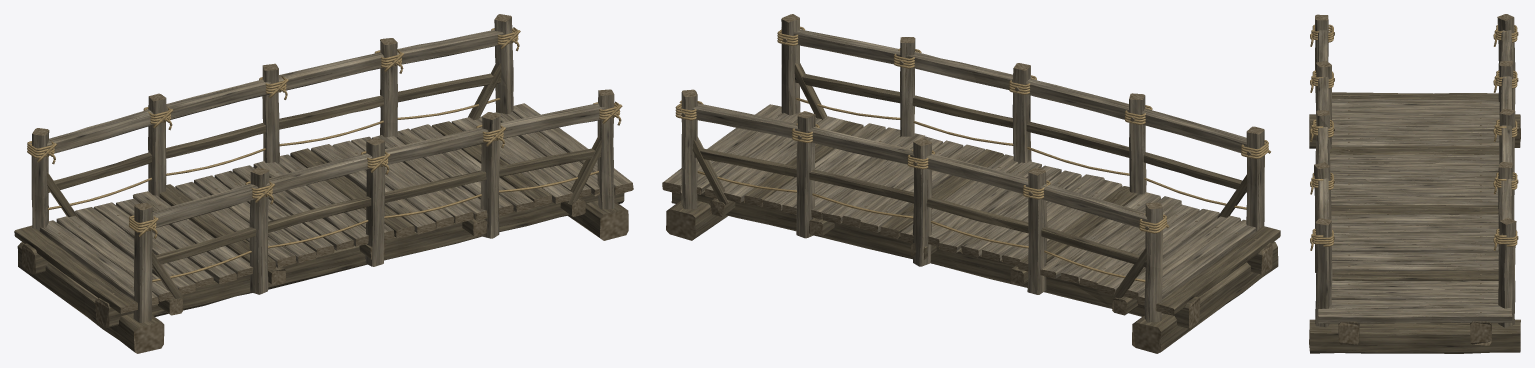
File: bridge.glb
3 views of the same model, side by side, from view 1: azimuth 30°, elevation 25°; view 2: azimuth 150°, elevation 25°; view 3: azimuth 270°, elevation 25° (orthographic). The views are drawn at different scales.
Visible parts, largest first — view 1: timber_bridge_LOD1; view 2: timber_bridge_LOD1; view 3: timber_bridge_LOD1.
Part boxes in pixels (box(x1,y1,x2,y2)): timber_bridge_LOD1: box(14, 14, 633, 353); timber_bridge_LOD1: box(662, 14, 1280, 353); timber_bridge_LOD1: box(1309, 14, 1520, 353).
Bounding box in the file's own units: 6.06 × 1.66 × 2.38.
5 materials, 4 textured.
